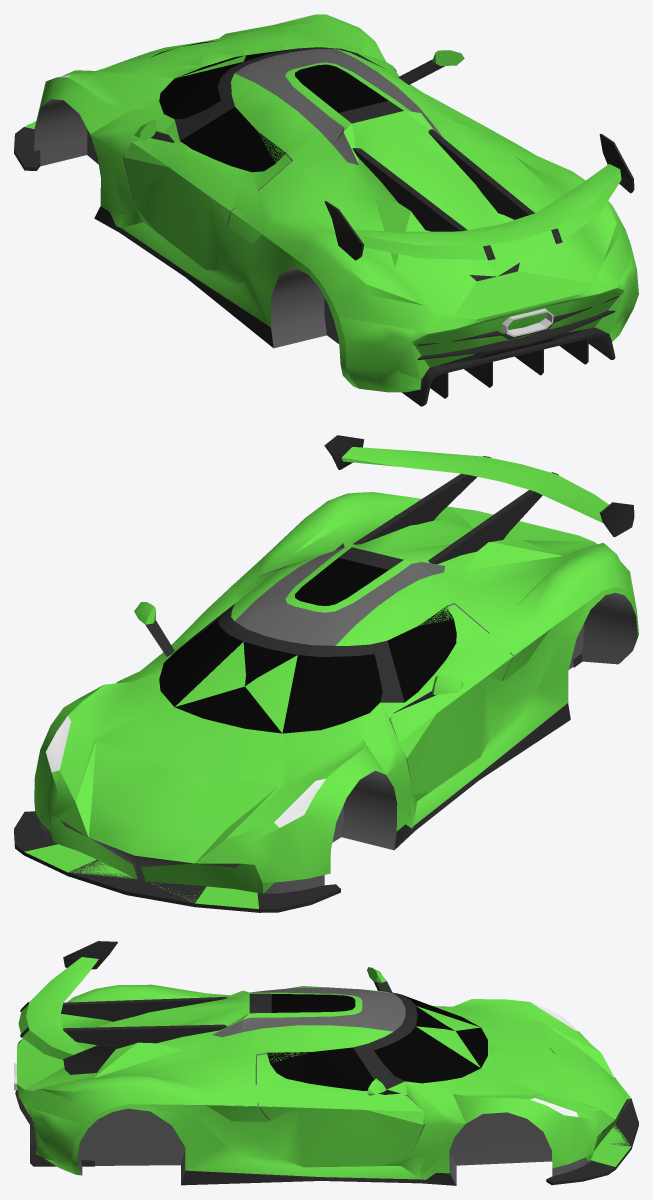
Rendered from Koenigsegg Jesko.fbx.
The picture shows the model from 3 angles, top to bottom: view 1: azimuth 30°, elevation 25°; view 2: azimuth 150°, elevation 25°; view 3: azimuth 270°, elevation 25°; orthographic projection. The views are drawn at different scales.
Visible parts, largest first — view 1: Jesko, Shadow Jesko; view 2: Jesko, Shadow Jesko; view 3: Jesko, Shadow Jesko.
Part boxes in pixels (bbox=[...]): Jesko: bbox=[14, 14, 638, 406]; Shadow Jesko: bbox=[24, 21, 630, 379]; Jesko: bbox=[14, 435, 638, 912]; Shadow Jesko: bbox=[24, 519, 631, 908]; Jesko: bbox=[14, 941, 638, 1185]; Shadow Jesko: bbox=[17, 993, 631, 1179].
Size of the model in its own units: 210 by 109 by 452.
